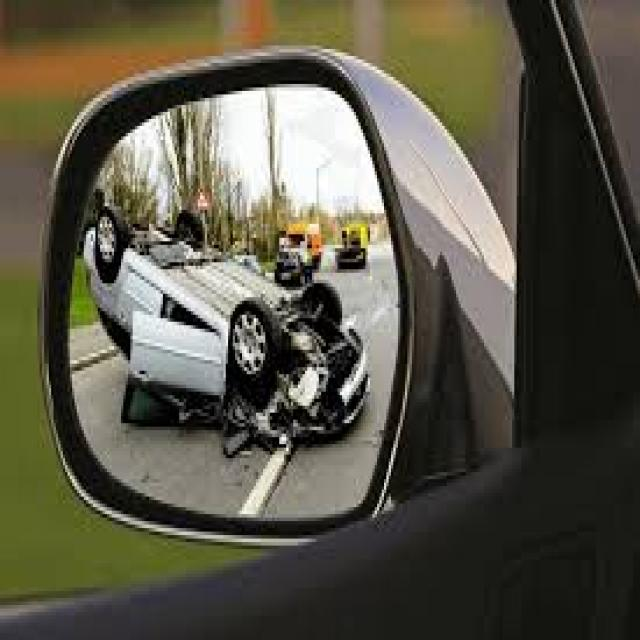accident: (87, 214, 373, 464)
